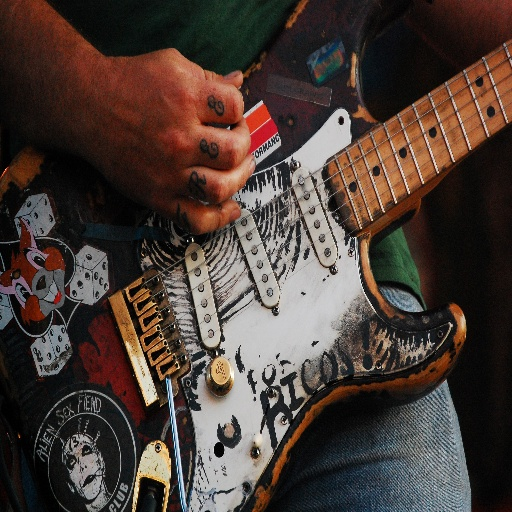hand: (44, 19, 276, 241)
